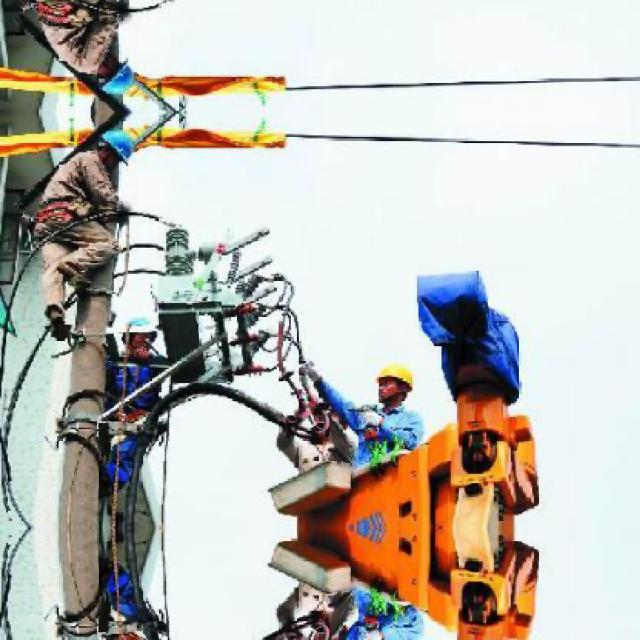con casco: (55, 121, 139, 190), (368, 354, 426, 412)
